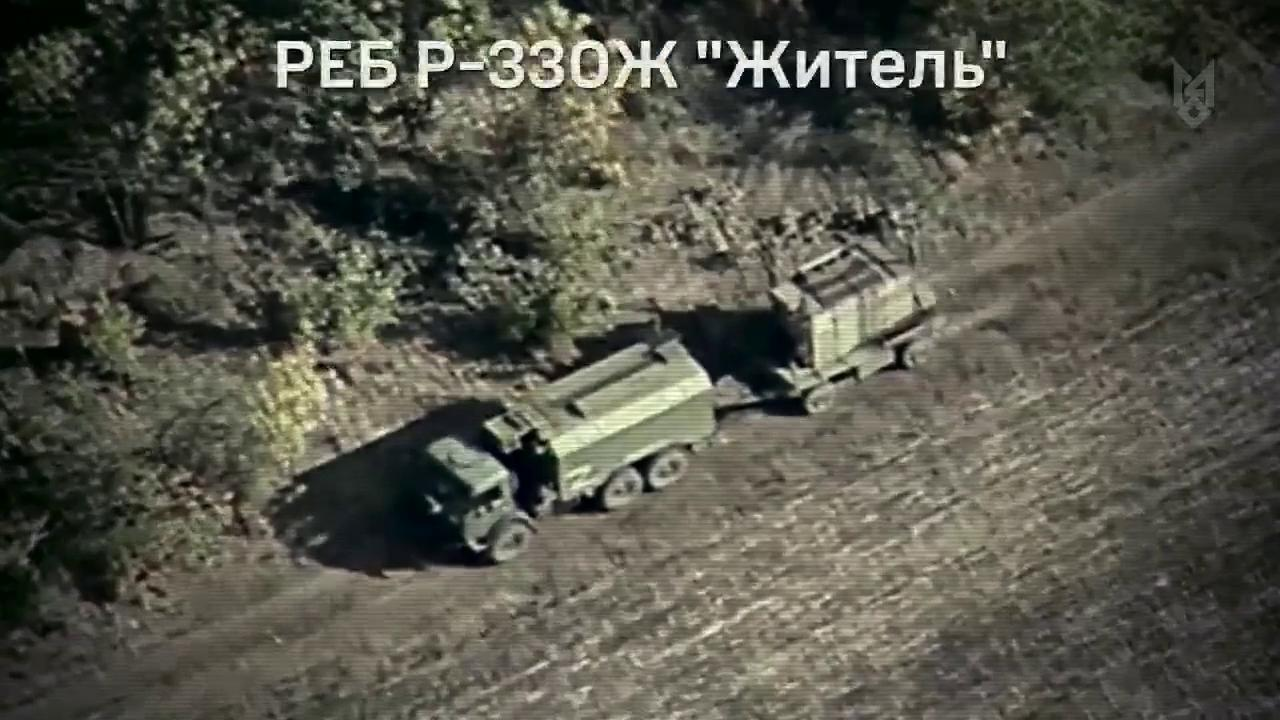tank: (411, 334, 728, 564), (733, 241, 945, 411)
